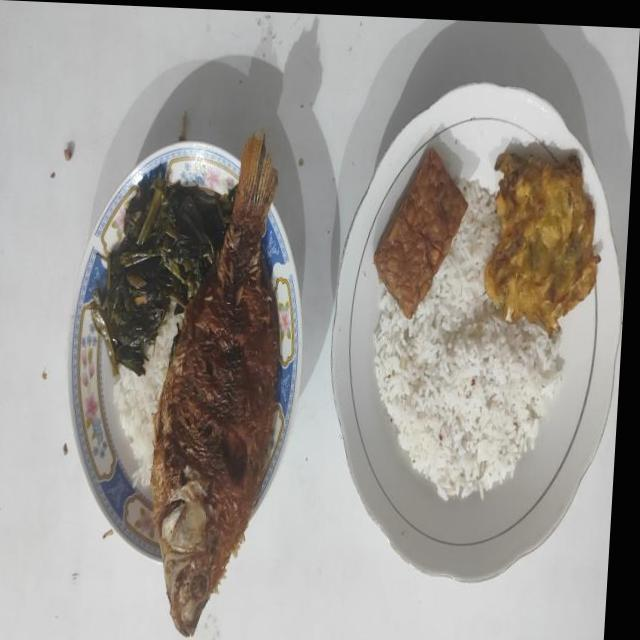ikan_mujair: (151, 135, 281, 636)
nasi_putih: (374, 181, 562, 500), (114, 313, 184, 487)
tempe_goreng: (374, 149, 468, 318)
tumis_kangkung: (92, 172, 236, 378)
